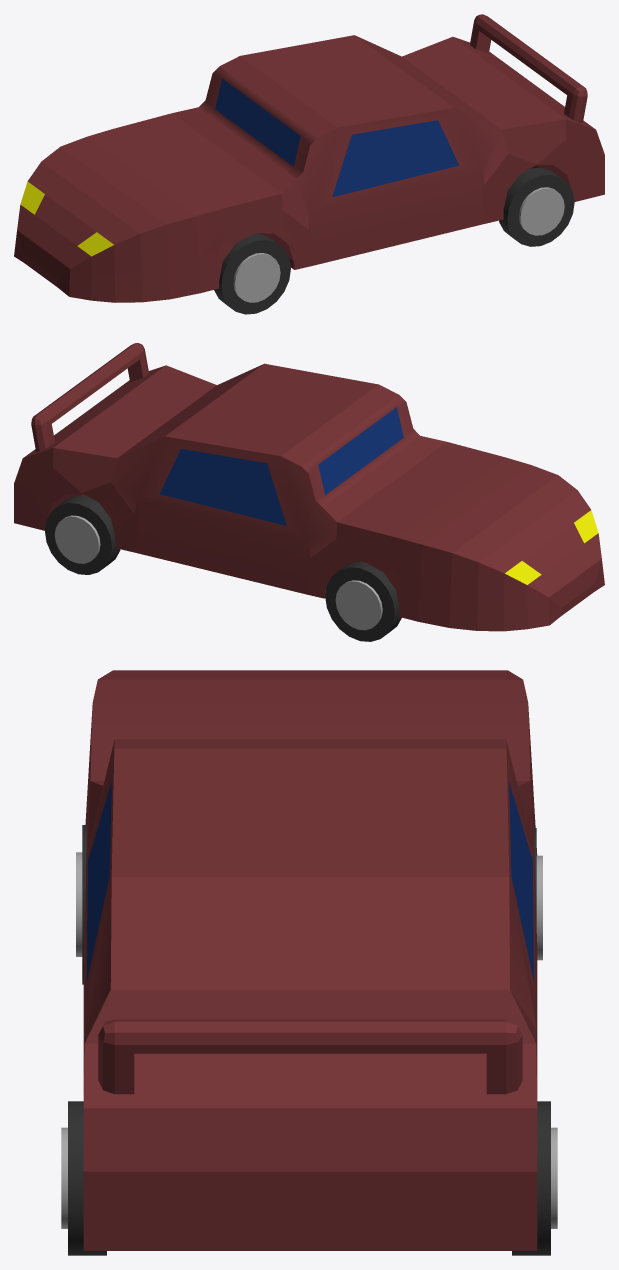
The model's file is Car.fbx.
3 renders of one model, top to bottom at view 1: azimuth 30°, elevation 25°; view 2: azimuth 150°, elevation 25°; view 3: azimuth 270°, elevation 25°, orthographic. The views are drawn at different scales.
Visible parts, largest first — view 1: pCube1, pCube2, polySurface4, polySurface2, polySurface1, polySurface3; view 2: pCube1, pCube2, polySurface6, polySurface8, polySurface5, polySurface7; view 3: pCube1, pCube2, polySurface4, polySurface8.
Boxes of the visible parts, <box> form: pCube1: <box>14,35,604,302</box>; pCube2: <box>470,14,587,123</box>; polySurface4: <box>499,167,574,246</box>; polySurface2: <box>214,233,290,314</box>; polySurface1: <box>233,253,280,302</box>; polySurface3: <box>519,187,564,235</box>; pCube1: <box>14,363,604,631</box>; pCube2: <box>31,343,148,451</box>; polySurface6: <box>325,562,401,641</box>; polySurface8: <box>45,496,120,574</box>; polySurface5: <box>335,580,382,630</box>; polySurface7: <box>54,515,100,563</box>; pCube1: <box>83,670,537,1250</box>; pCube2: <box>98,1019,522,1094</box>; polySurface4: <box>68,1101,106,1255</box>; polySurface8: <box>512,1101,550,1255</box>.
Bounding box in the file's own units: 6.89 × 2.05 × 2.92.
